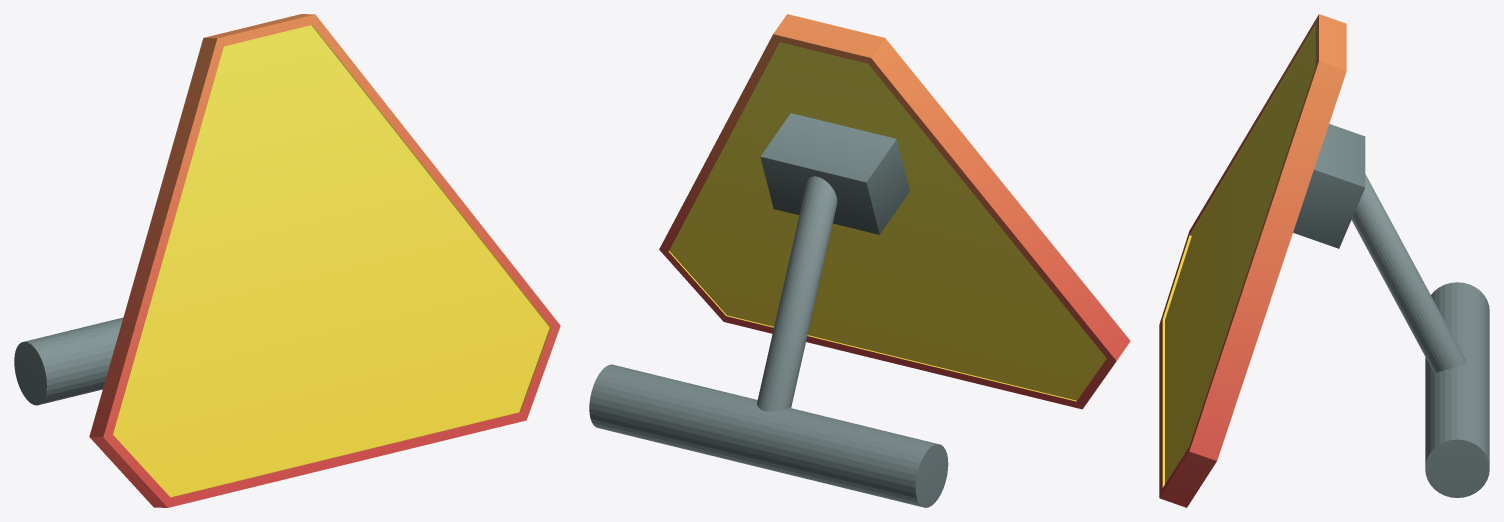
Rendered from panneau chantier wip.fbx.
3 renders of one model, left to right at view 1: azimuth 30°, elevation 25°; view 2: azimuth 150°, elevation 25°; view 3: azimuth 270°, elevation 25°, orthographic.
Parts seen in each view (by area): view 1: Cube; view 2: Cube; view 3: Cube.
Part boxes in pixels (x1,y1,x2,y2): Cube: (14,14,560,507); Cube: (589,14,1130,507); Cube: (1159,14,1489,507).
Size of the model in its own units: 375 by 304 by 237.
